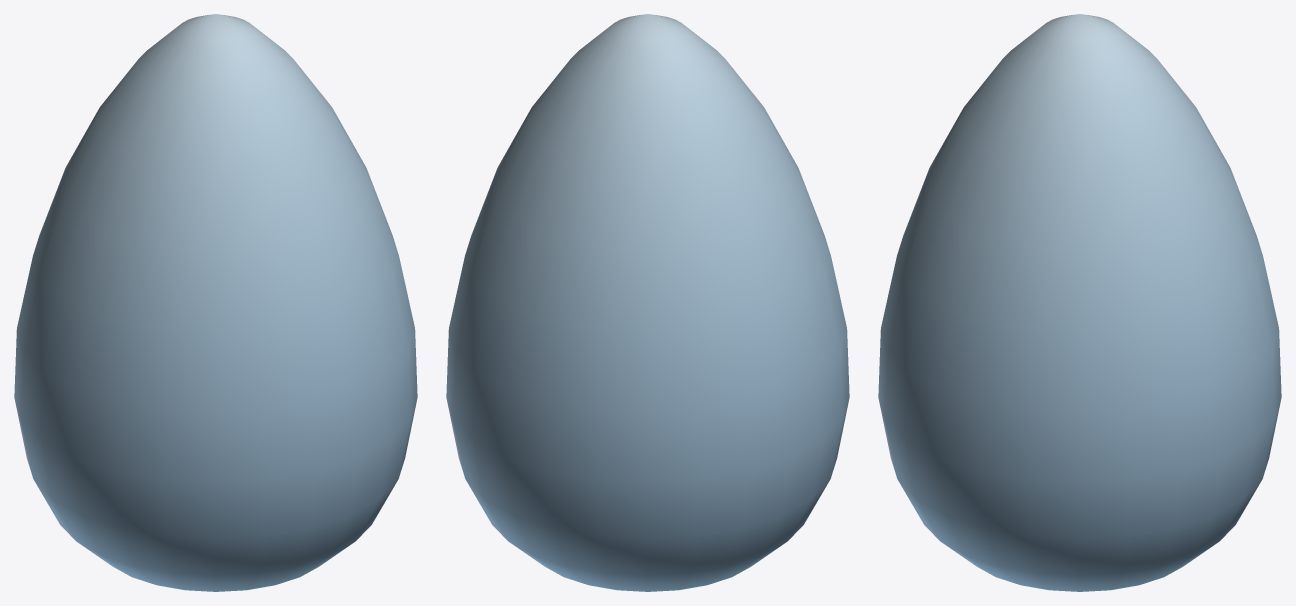
The model's file is Tear.fbx.
The picture shows the model from 3 angles, left to right: view 1: azimuth 30°, elevation 25°; view 2: azimuth 150°, elevation 25°; view 3: azimuth 270°, elevation 25°; orthographic projection.
Parts seen in each view (by area): view 1: Tear; view 2: Tear; view 3: Tear.
Part boxes in pixels (box(x1,y1,x2,y2)): Tear: box(14, 14, 417, 591); Tear: box(446, 14, 849, 591); Tear: box(878, 14, 1281, 591).
Bounding box in the file's own units: 1.57 × 2.35 × 1.57.
